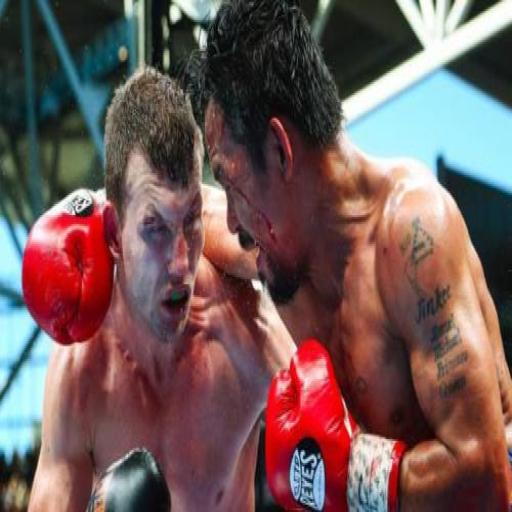boxing: (20, 0, 510, 510)
